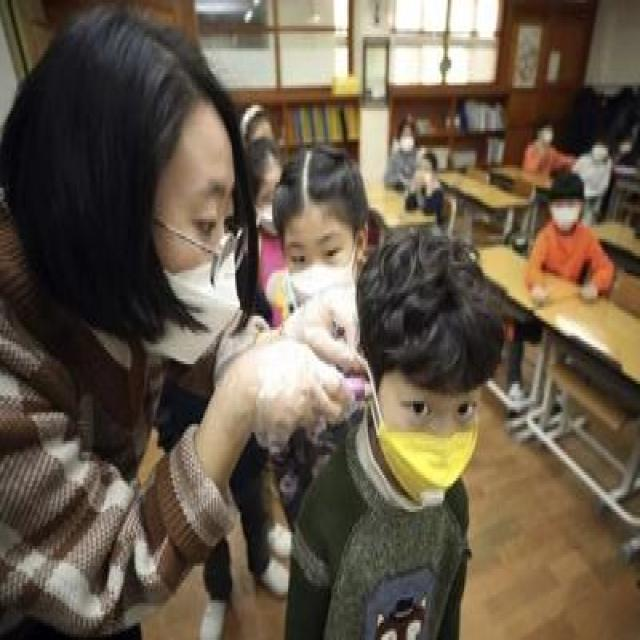with_mask: (151, 169, 241, 368), (369, 363, 481, 508), (281, 217, 358, 311), (252, 172, 281, 237), (550, 189, 583, 237), (591, 138, 609, 166), (399, 129, 414, 155), (542, 126, 555, 146)
